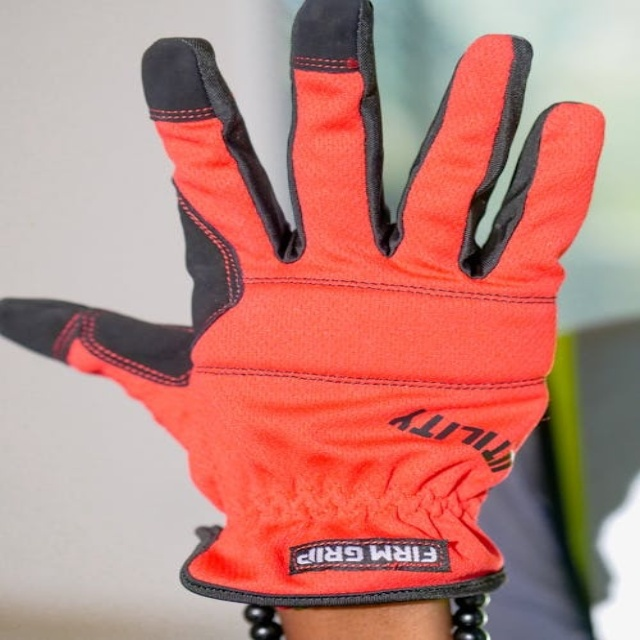Guantes: (1, 1, 597, 620)
